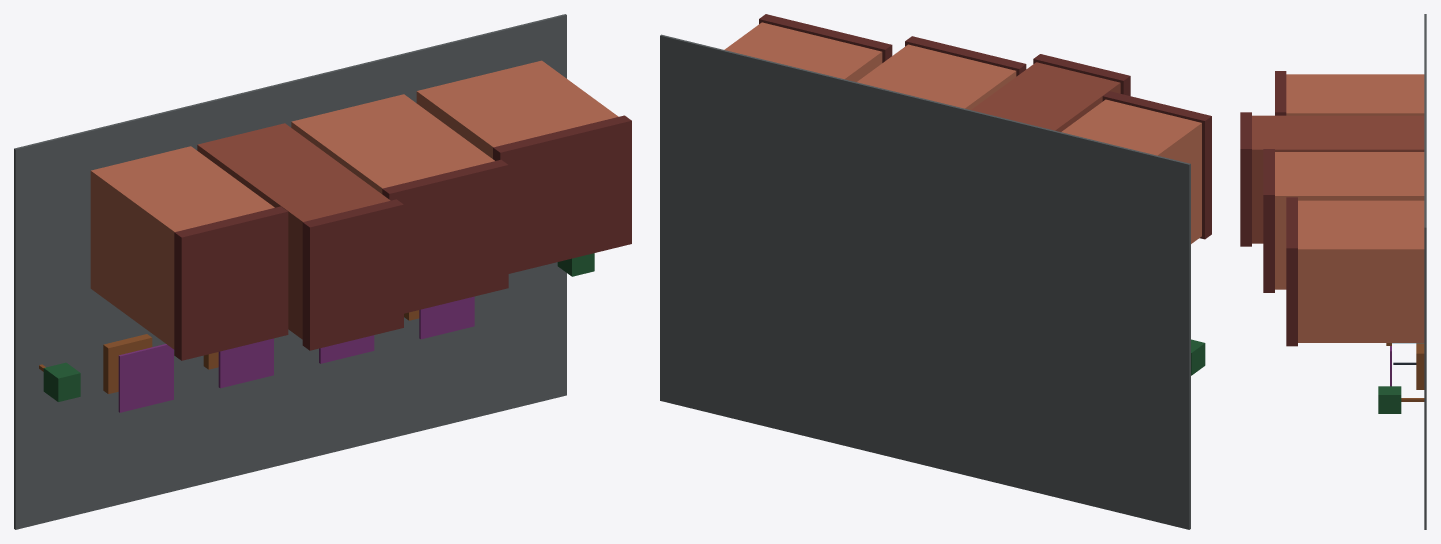
The model's file is oude_markt.obj.
3 views of the same model, side by side, from view 1: azimuth 30°, elevation 25°; view 2: azimuth 150°, elevation 25°; view 3: azimuth 270°, elevation 25° (orthographic). The views are drawn at different scales.
Parts seen in each view (by area): view 1: oude_markt; view 2: oude_markt; view 3: oude_markt.
Boxes of the visible parts, x1=… form: oude_markt: x1=14, y1=14, x2=631, y2=529; oude_markt: x1=660, y1=14, x2=1211, y2=529; oude_markt: x1=1240, y1=14, x2=1426, y2=529.
Size of the model in its own units: 44 by 29 by 16.2.
